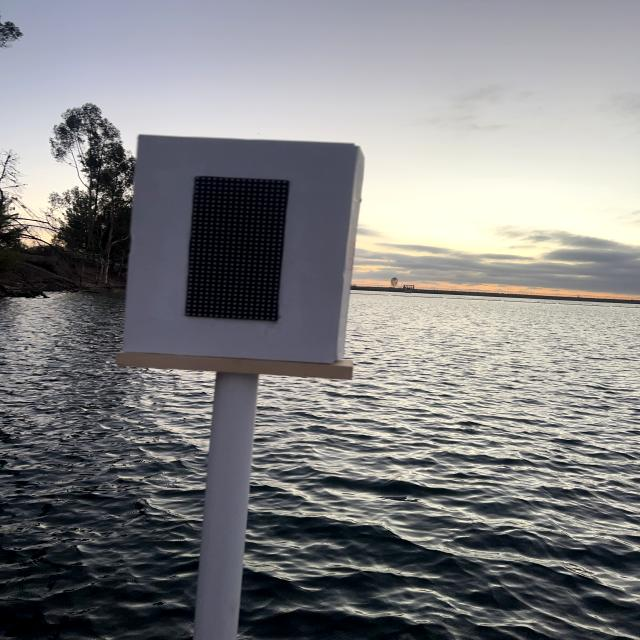led: (153, 151, 331, 336)
